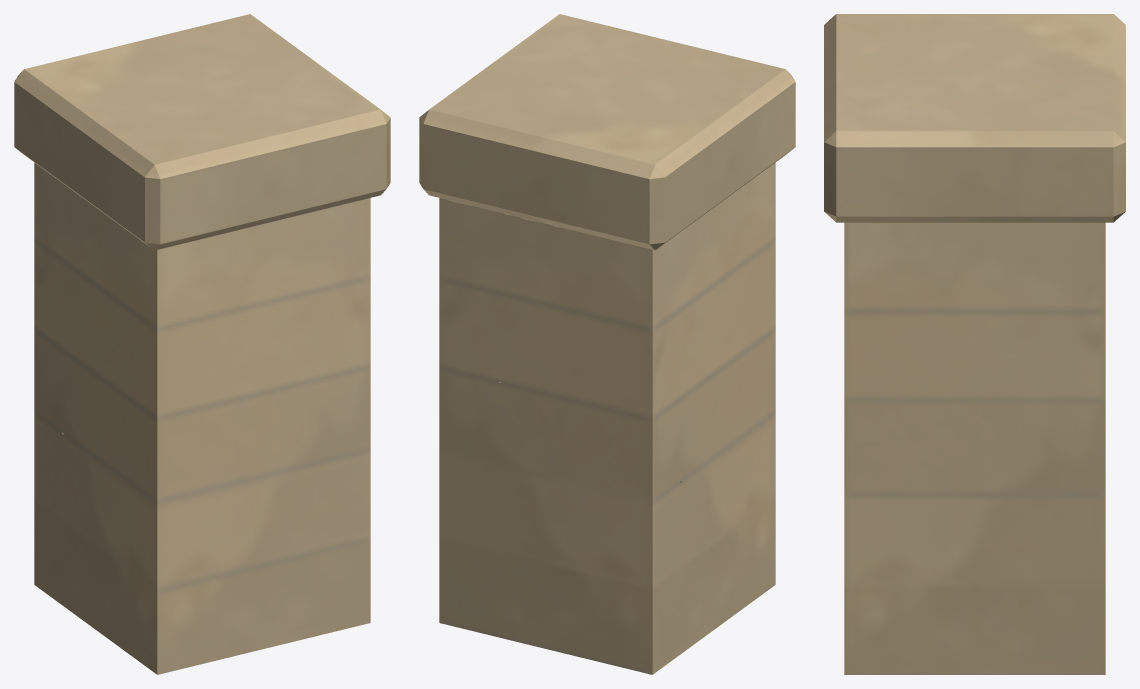
3 views of the same model, side by side, from view 1: azimuth 30°, elevation 25°; view 2: azimuth 150°, elevation 25°; view 3: azimuth 270°, elevation 25° (orthographic). The views are drawn at different scales.
Visible parts, largest first — view 1: L16_Baked; view 2: L16_Baked; view 3: L16_Baked.
Boxes of the visible parts, x1,y1,x2,y2 form: L16_Baked: [14, 14, 390, 674]; L16_Baked: [419, 14, 795, 674]; L16_Baked: [824, 14, 1125, 674].
Size of the model in its own units: 75 by 150 by 75.
